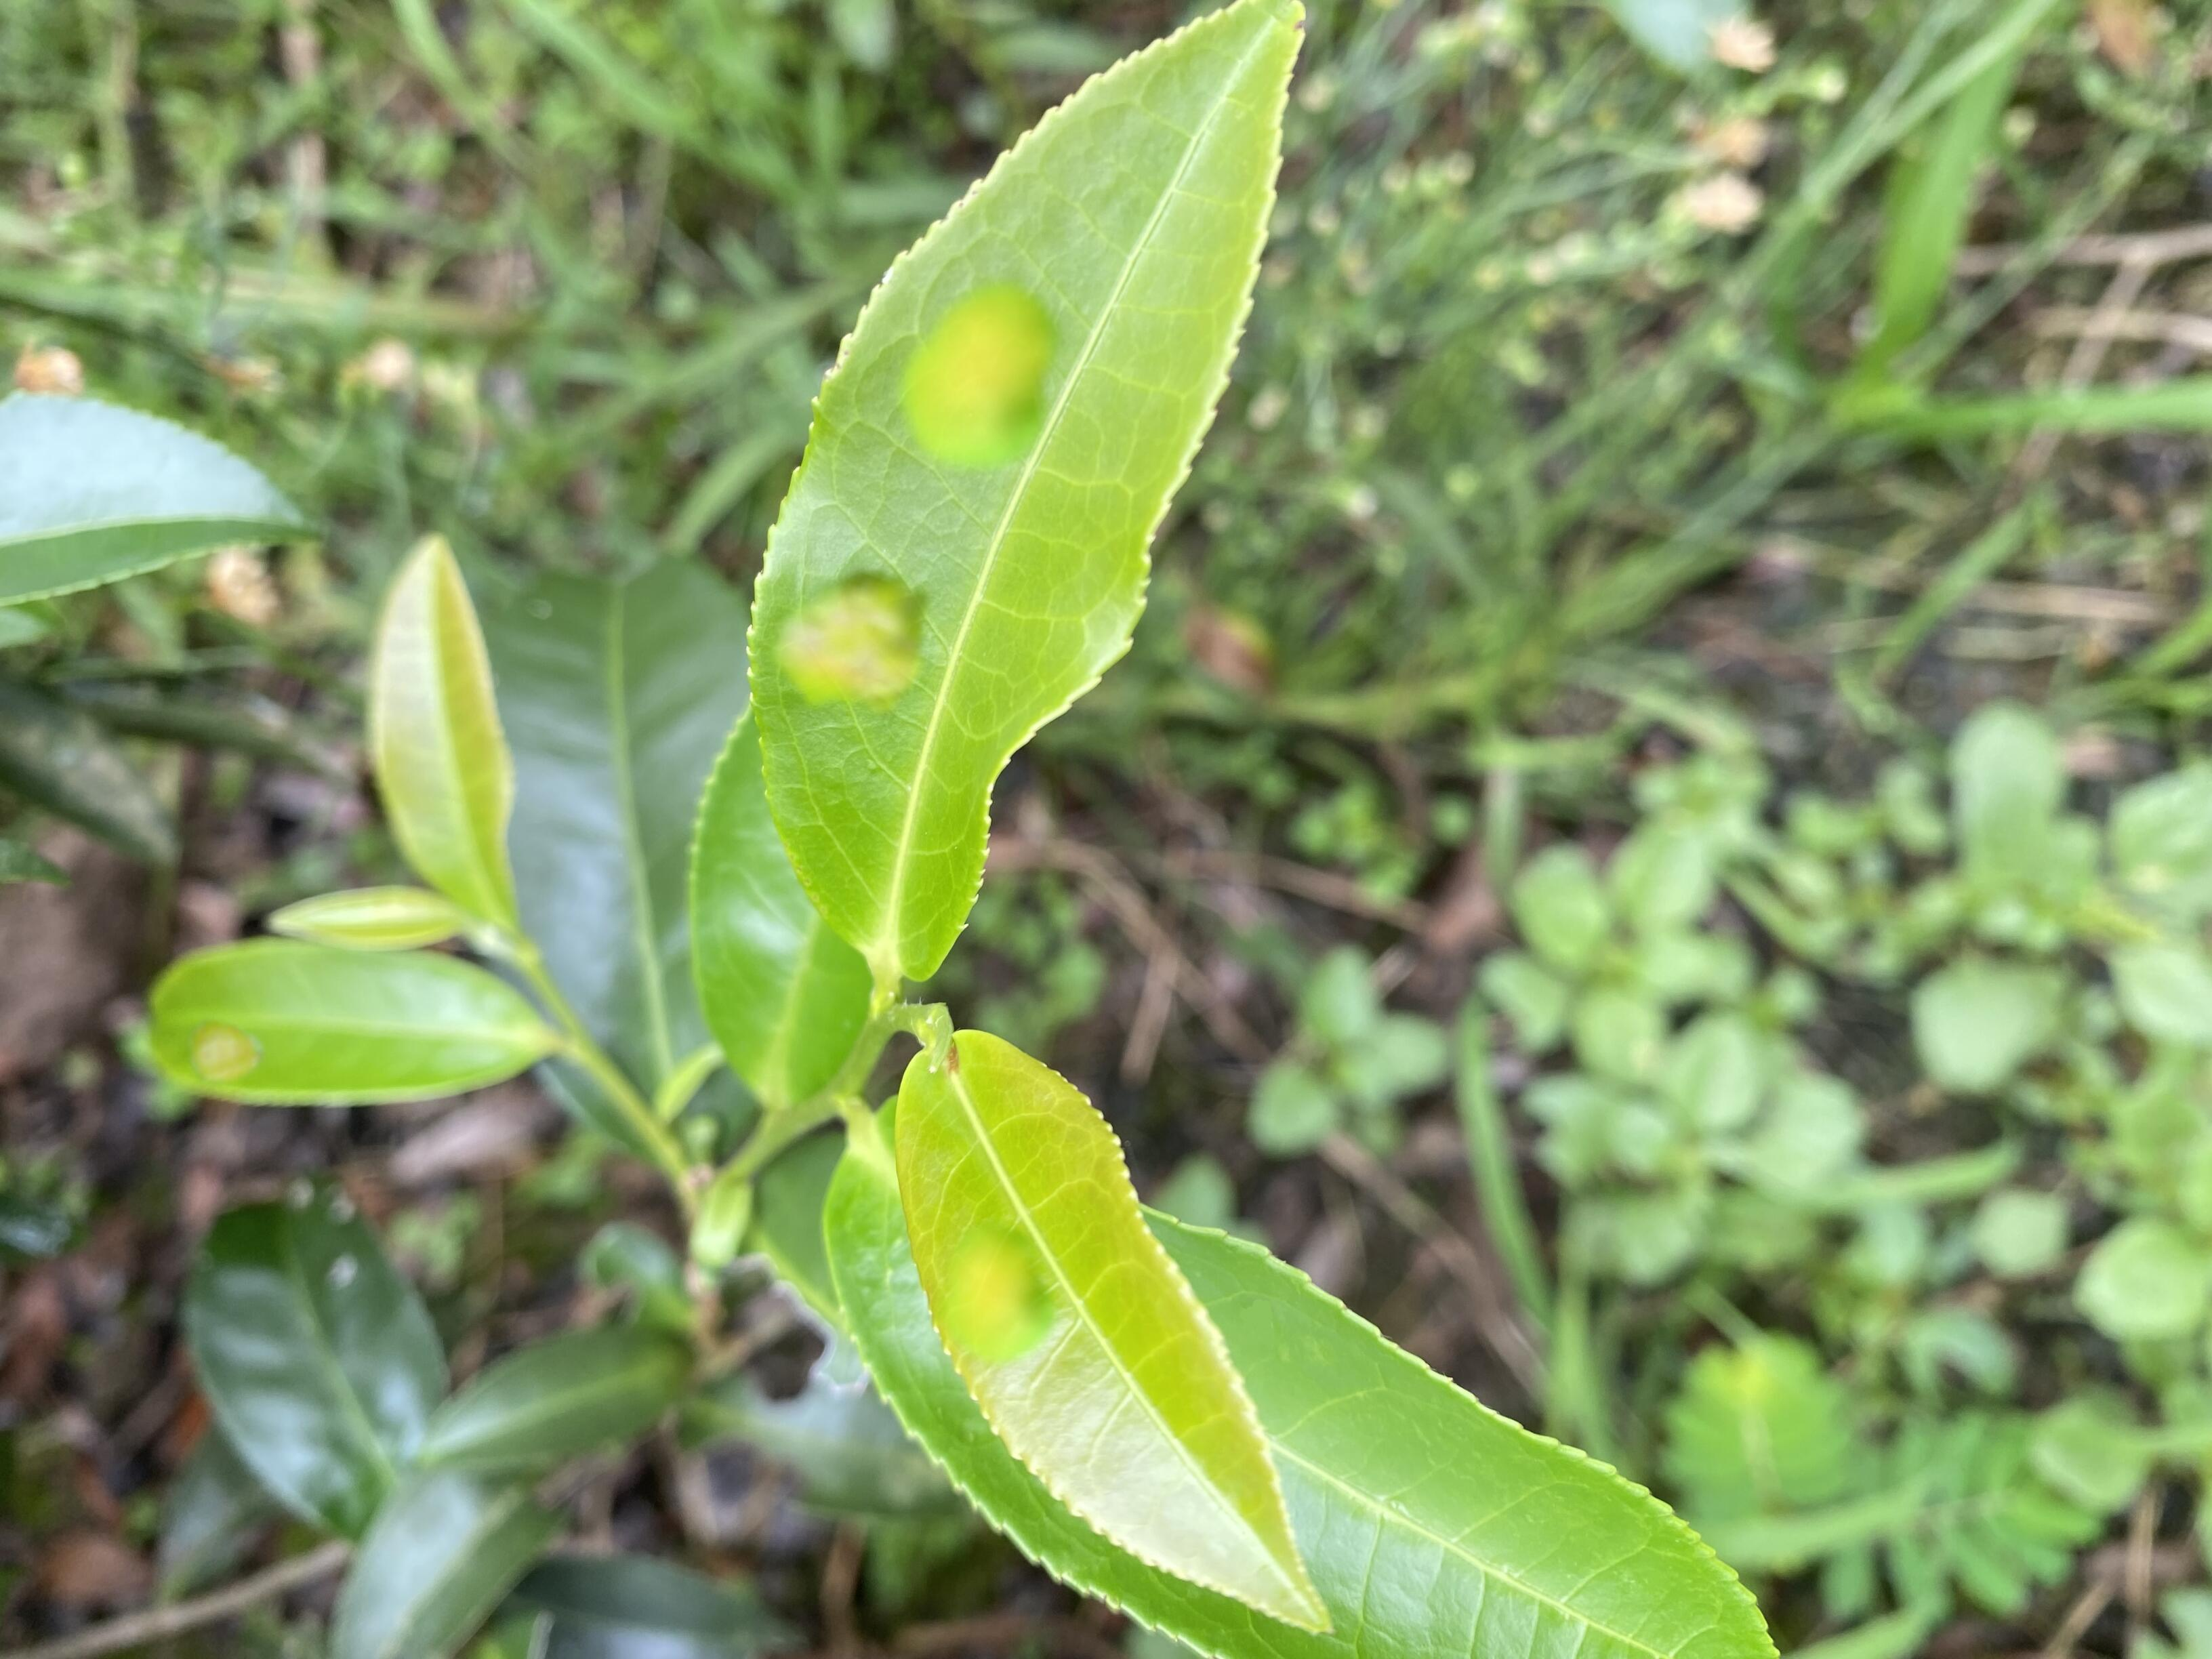chabing_high: (749, 5, 1308, 985)
chabing_low: (895, 1032, 1336, 1631), (145, 939, 554, 1108)
healthy: (1209, 1094, 1778, 1659), (5, 390, 314, 612)
